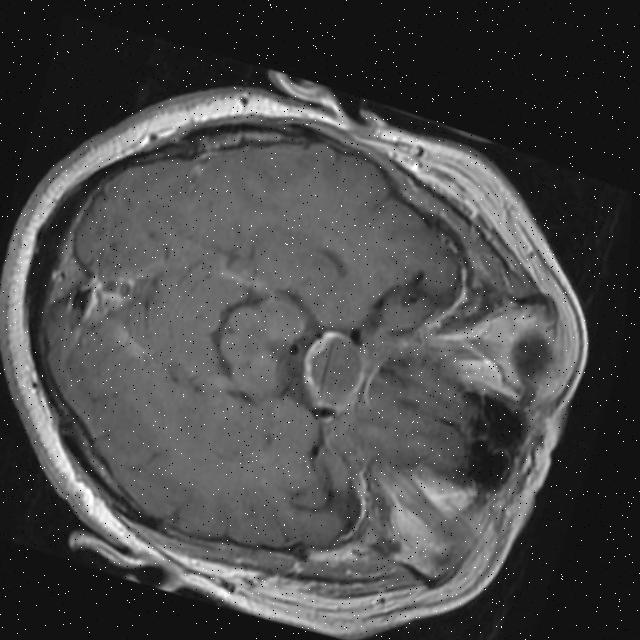Pituitary: (292, 325, 373, 416)
